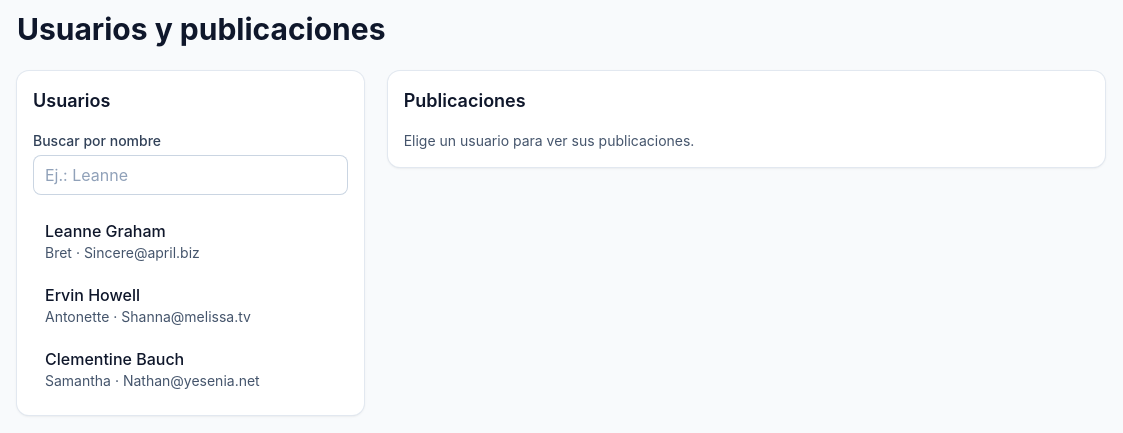
Scenario: user search › explains when no user matches
Expected: the text "Leanne Graham" is shown, left=45, top=221, right=166, bottom=241
Type "zzz" into the search field at (190, 175), box left=33, top=155, right=348, bottom=195
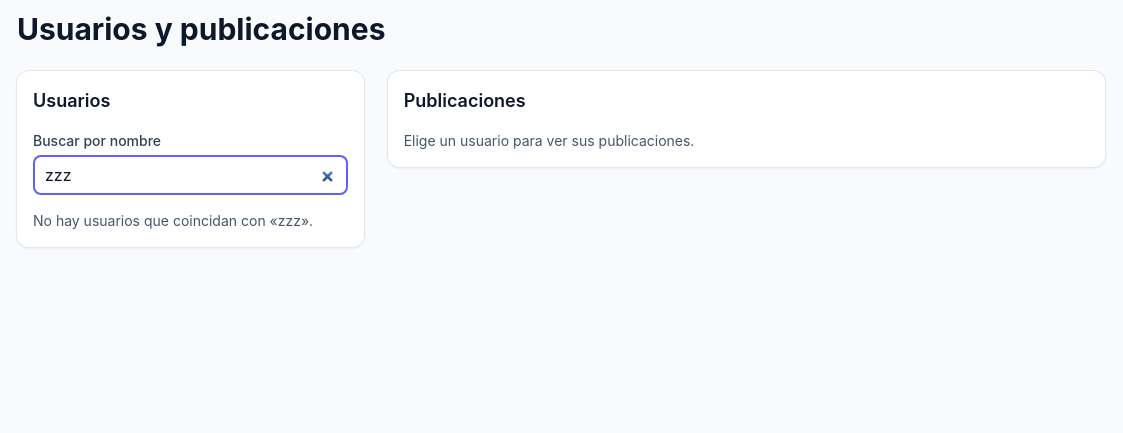
Expected: the message reads "No hay usuarios que coincidan con «zzz».", left=33, top=211, right=348, bottom=231
